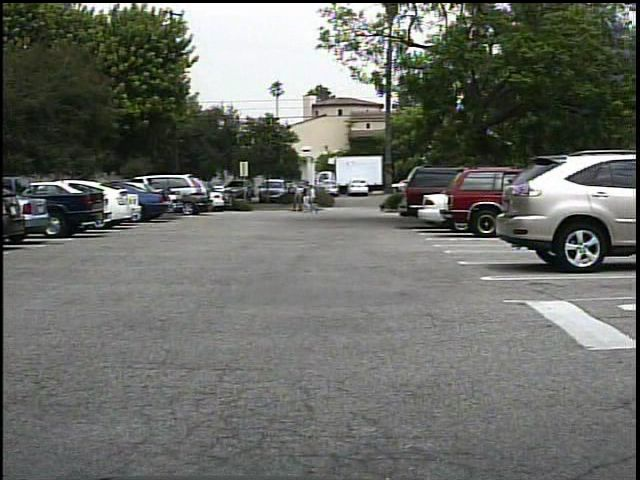person: (304, 184, 323, 215), (290, 185, 306, 215), (301, 186, 314, 216)
